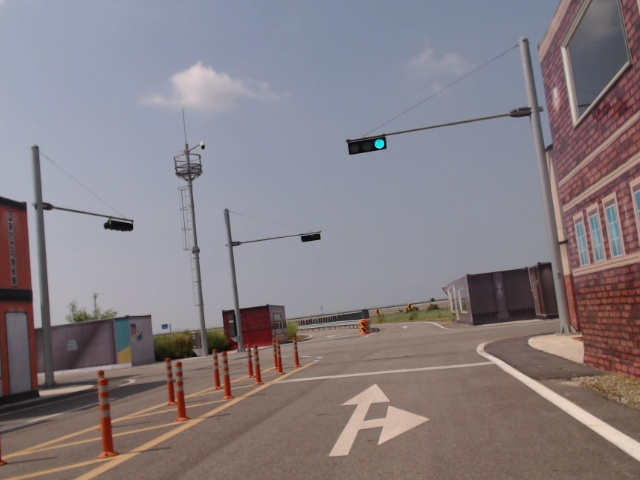green_3: (348, 135, 387, 155)
